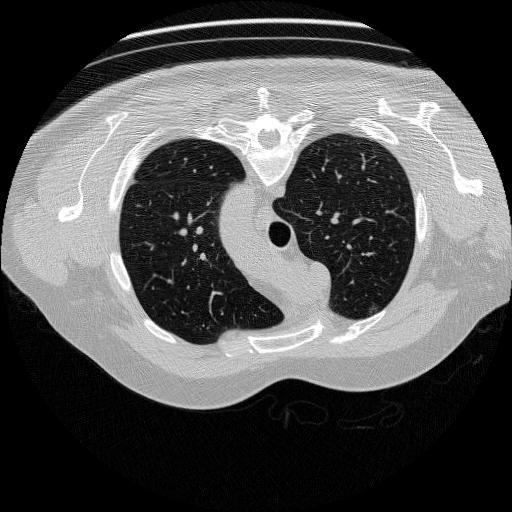nodule: (366, 303, 382, 319)
